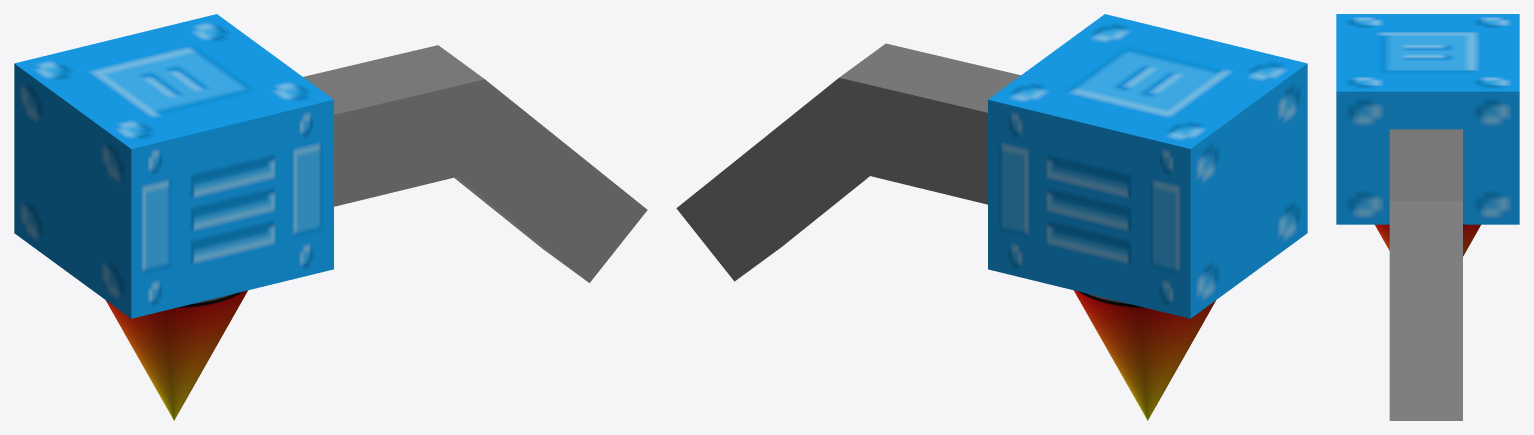
File: labo4.obj
3 renders of one model, left to right at view 1: azimuth 30°, elevation 25°; view 2: azimuth 150°, elevation 25°; view 3: azimuth 270°, elevation 25°, orthographic. The views are drawn at different scales.
Parts seen in each view (by area): view 1: Case_ColobotMesh_, Cylinder; view 2: Case_ColobotMesh_, Cylinder; view 3: Case_ColobotMesh_, Cylinder.
Part boxes in pixels (bbox=[...]): Case_ColobotMesh_: bbox=[14, 14, 647, 318]; Cylinder: bbox=[106, 290, 247, 420]; Case_ColobotMesh_: bbox=[676, 14, 1307, 318]; Cylinder: bbox=[1074, 290, 1215, 420]; Case_ColobotMesh_: bbox=[1336, 14, 1519, 420]; Cylinder: bbox=[1375, 224, 1480, 256].
Bounding box in the file's own units: 6.79 × 4 × 2.5.
